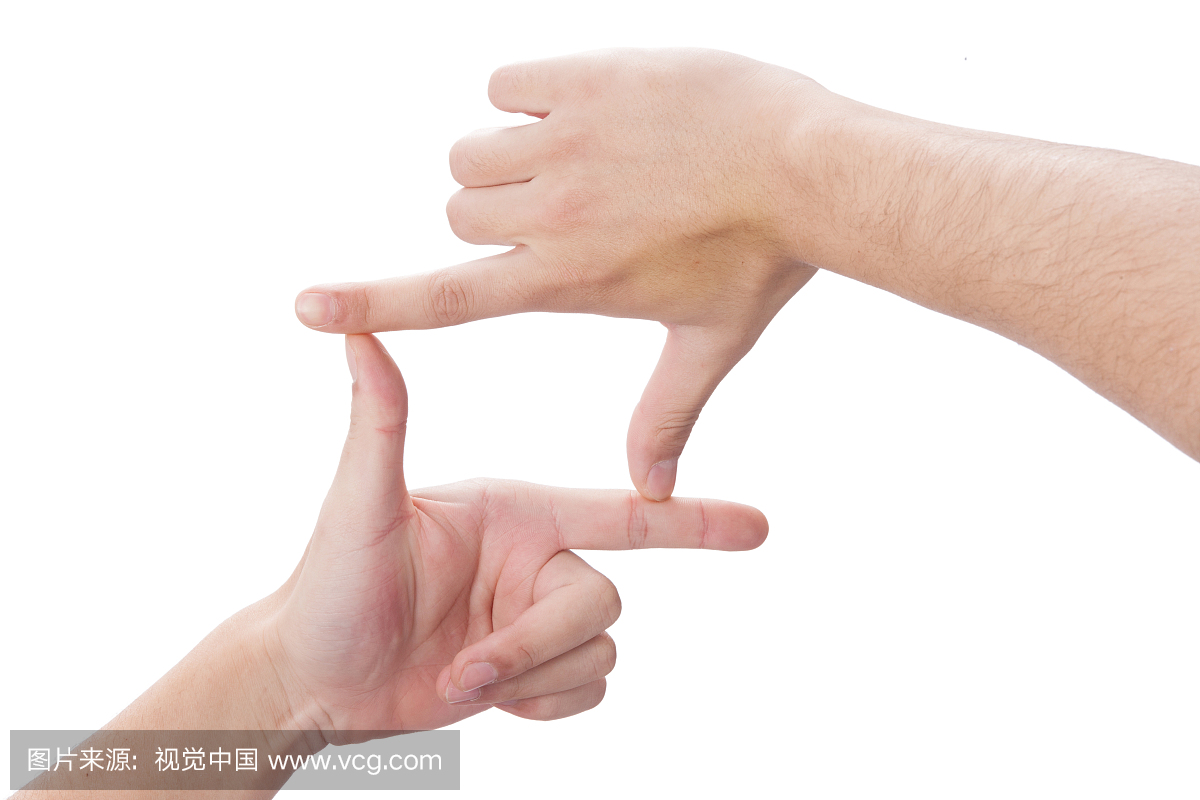no-phone: (264, 38, 892, 495), (217, 334, 808, 750)
